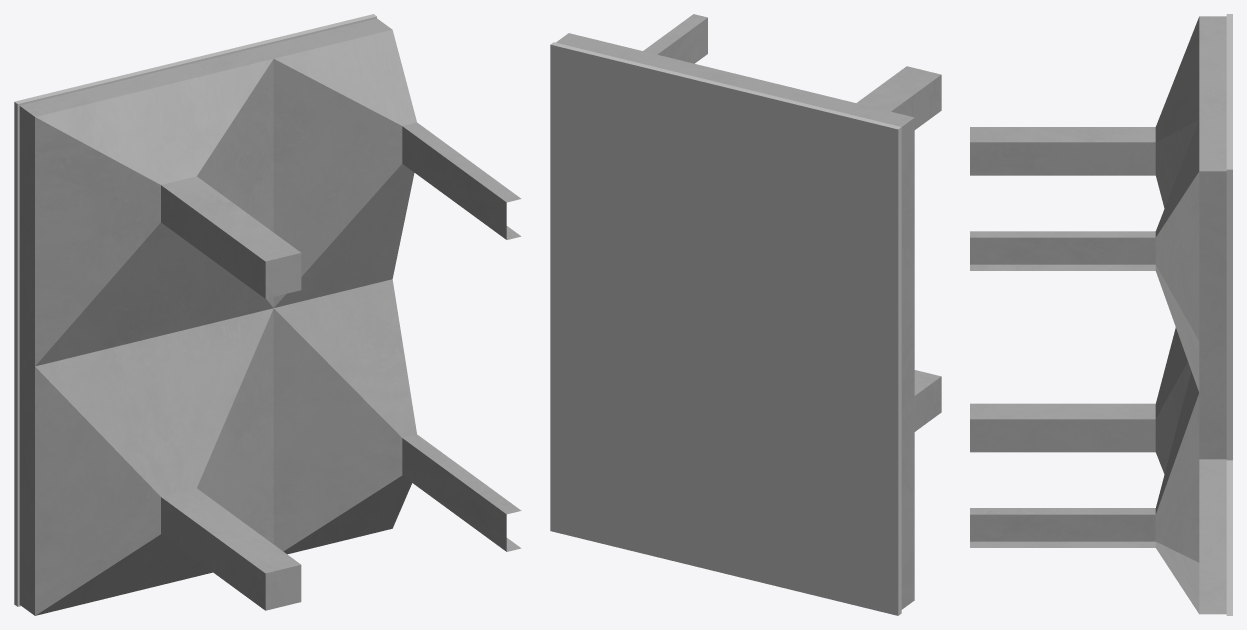
Rendered from Canopy.fbx.
3 views of the same model, side by side, from view 1: azimuth 30°, elevation 25°; view 2: azimuth 150°, elevation 25°; view 3: azimuth 270°, elevation 25° (orthographic). The views are drawn at different scales.
Visible parts, largest first — view 1: SM_Canopy_01_LOD0; view 2: SM_Canopy_01_LOD0; view 3: SM_Canopy_01_LOD0.
Part boxes in pixels (x1=…): SM_Canopy_01_LOD0: x1=14, y1=14, x2=521, y2=615; SM_Canopy_01_LOD0: x1=550, y1=14, x2=941, y2=615; SM_Canopy_01_LOD0: x1=970, y1=14, x2=1232, y2=615.
Size of the model in its own units: 6.03 by 8.06 by 4.3.
